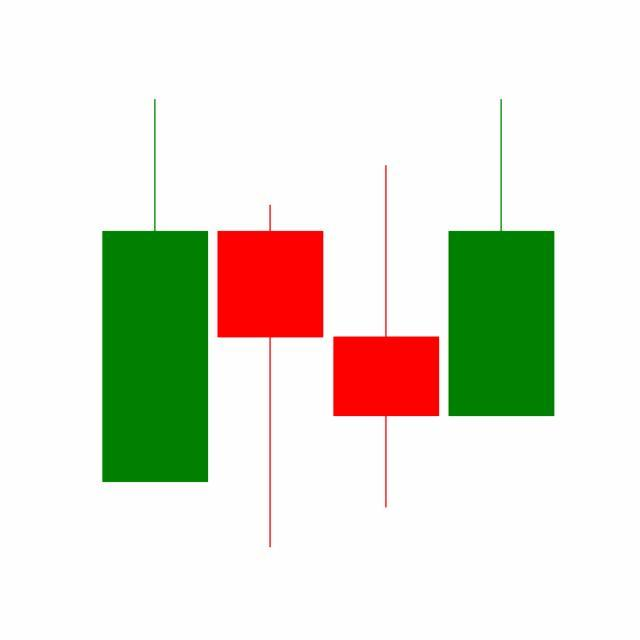Spinning Top: (329, 162, 445, 513)
